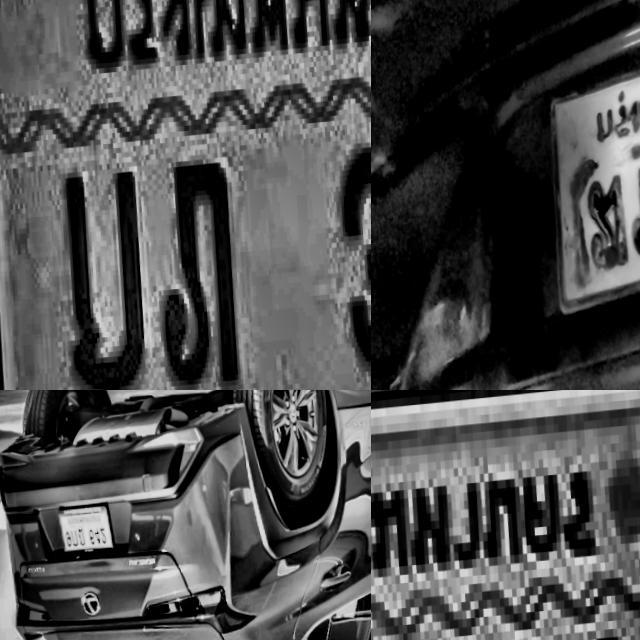license-plate: (0, 0, 371, 390), (371, 390, 640, 640), (551, 74, 640, 307), (58, 506, 116, 560)
